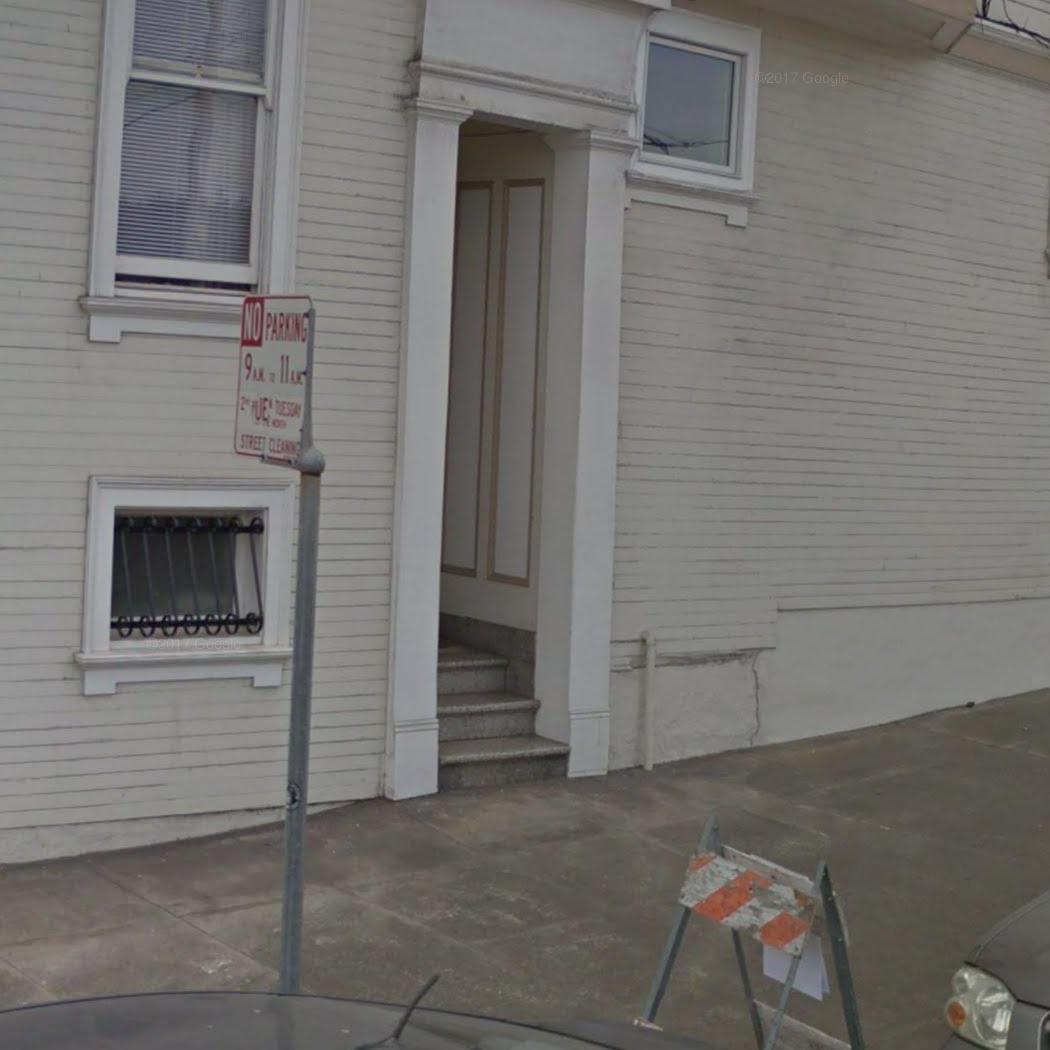No Parking: (224, 282, 321, 463)
